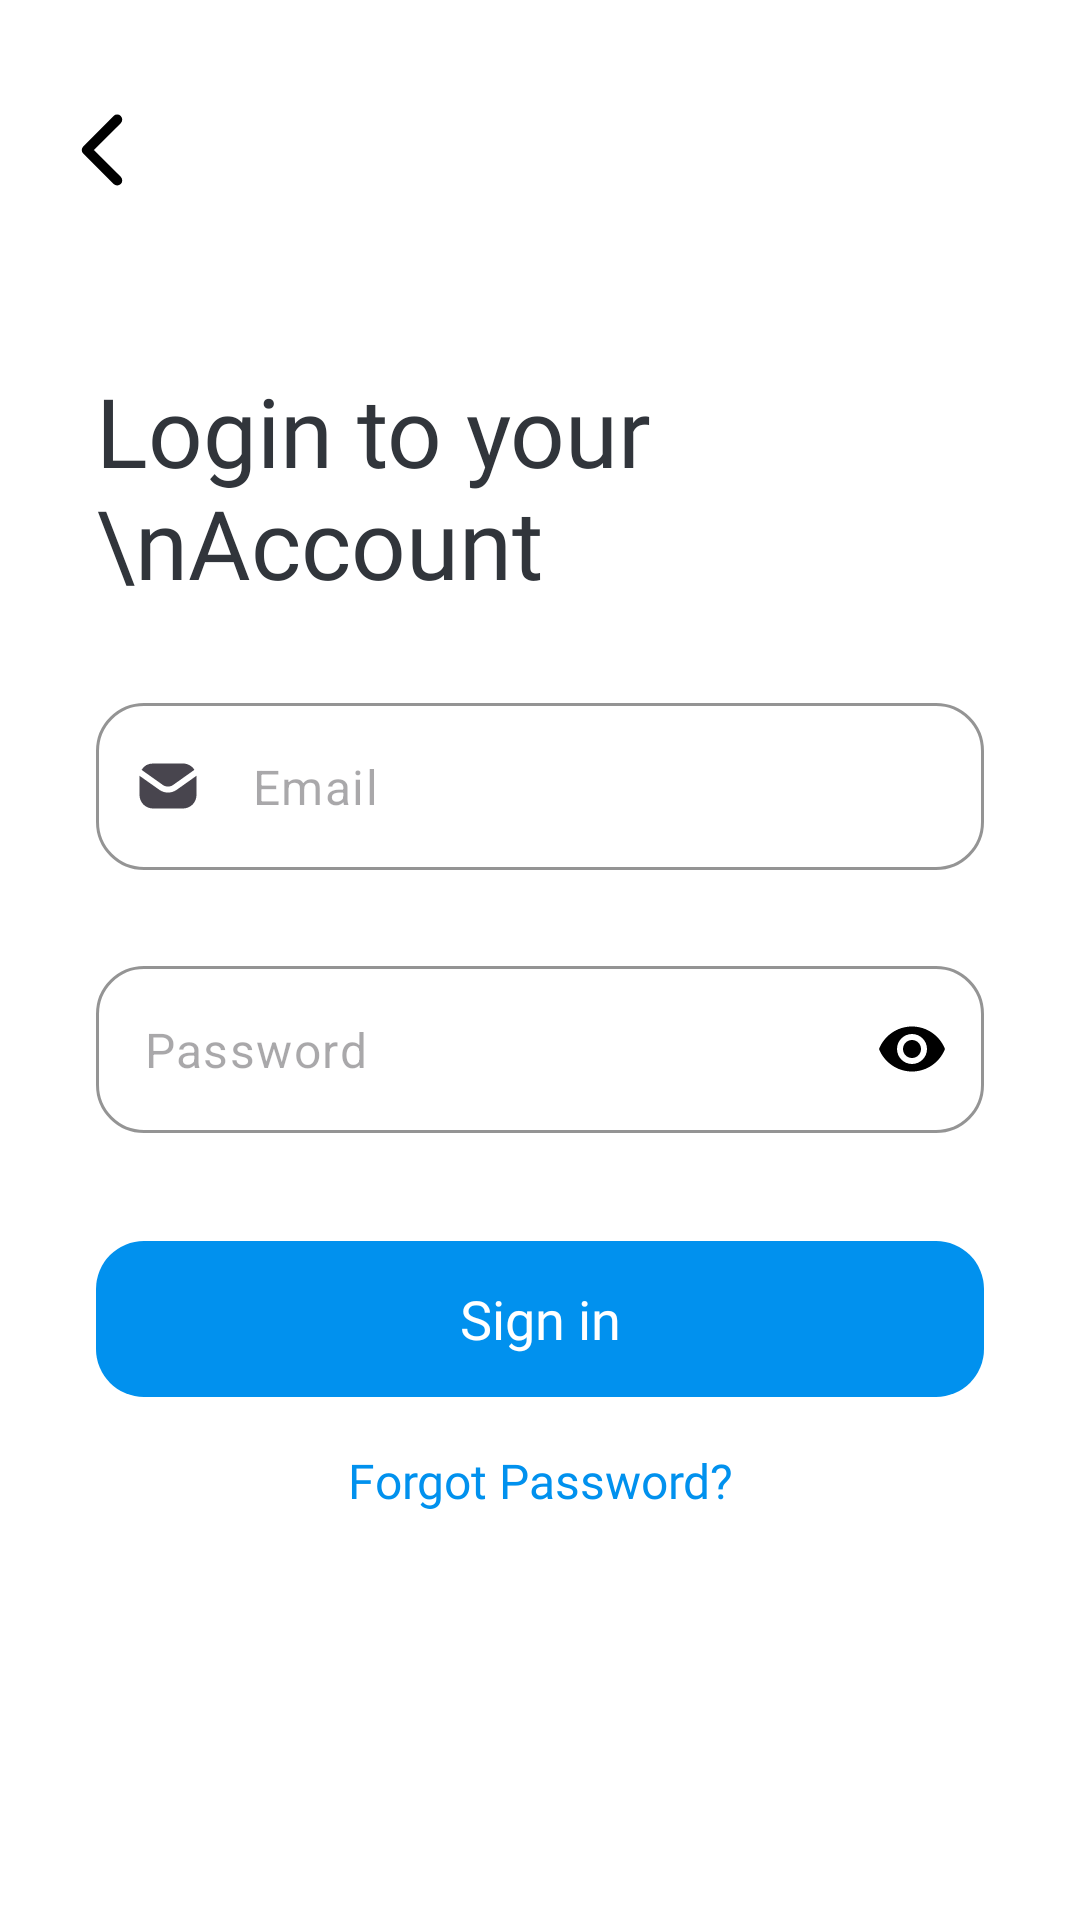

Where icons sit on this 1080*1920 app screen, as (x1, y1, x2, y2):
back: (81, 114, 123, 186)
